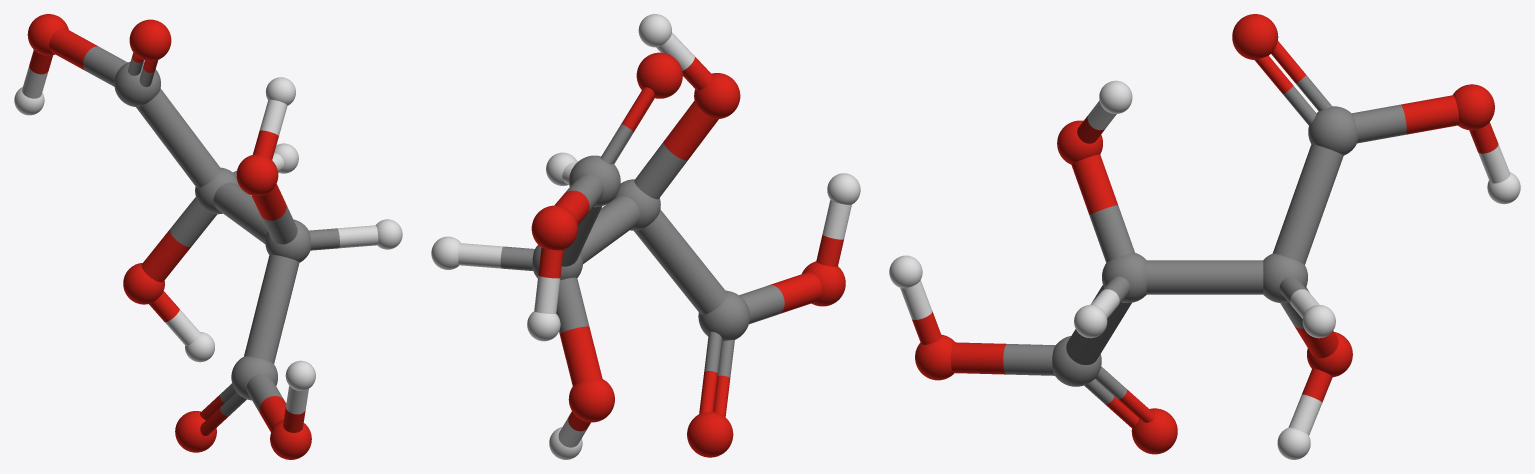
Rendered from RRTARTARICACID.MOL2.glb.
3 views of the same model, side by side, from view 1: azimuth 30°, elevation 25°; view 2: azimuth 150°, elevation 25°; view 3: azimuth 270°, elevation 25° (orthographic). The views are drawn at different scales.
Size of the model in its own units: 2.48 by 4.76 by 6.25.
